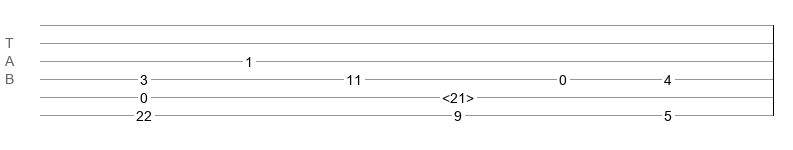0: (140, 90, 148, 100), (559, 72, 567, 82)
1: (245, 54, 253, 64)
11: (346, 72, 362, 82)
22: (136, 108, 152, 118)
3: (140, 72, 148, 82)
4: (664, 72, 672, 82)
5: (664, 108, 672, 118)
9: (454, 108, 462, 118)
harmonic: (442, 90, 474, 100)
